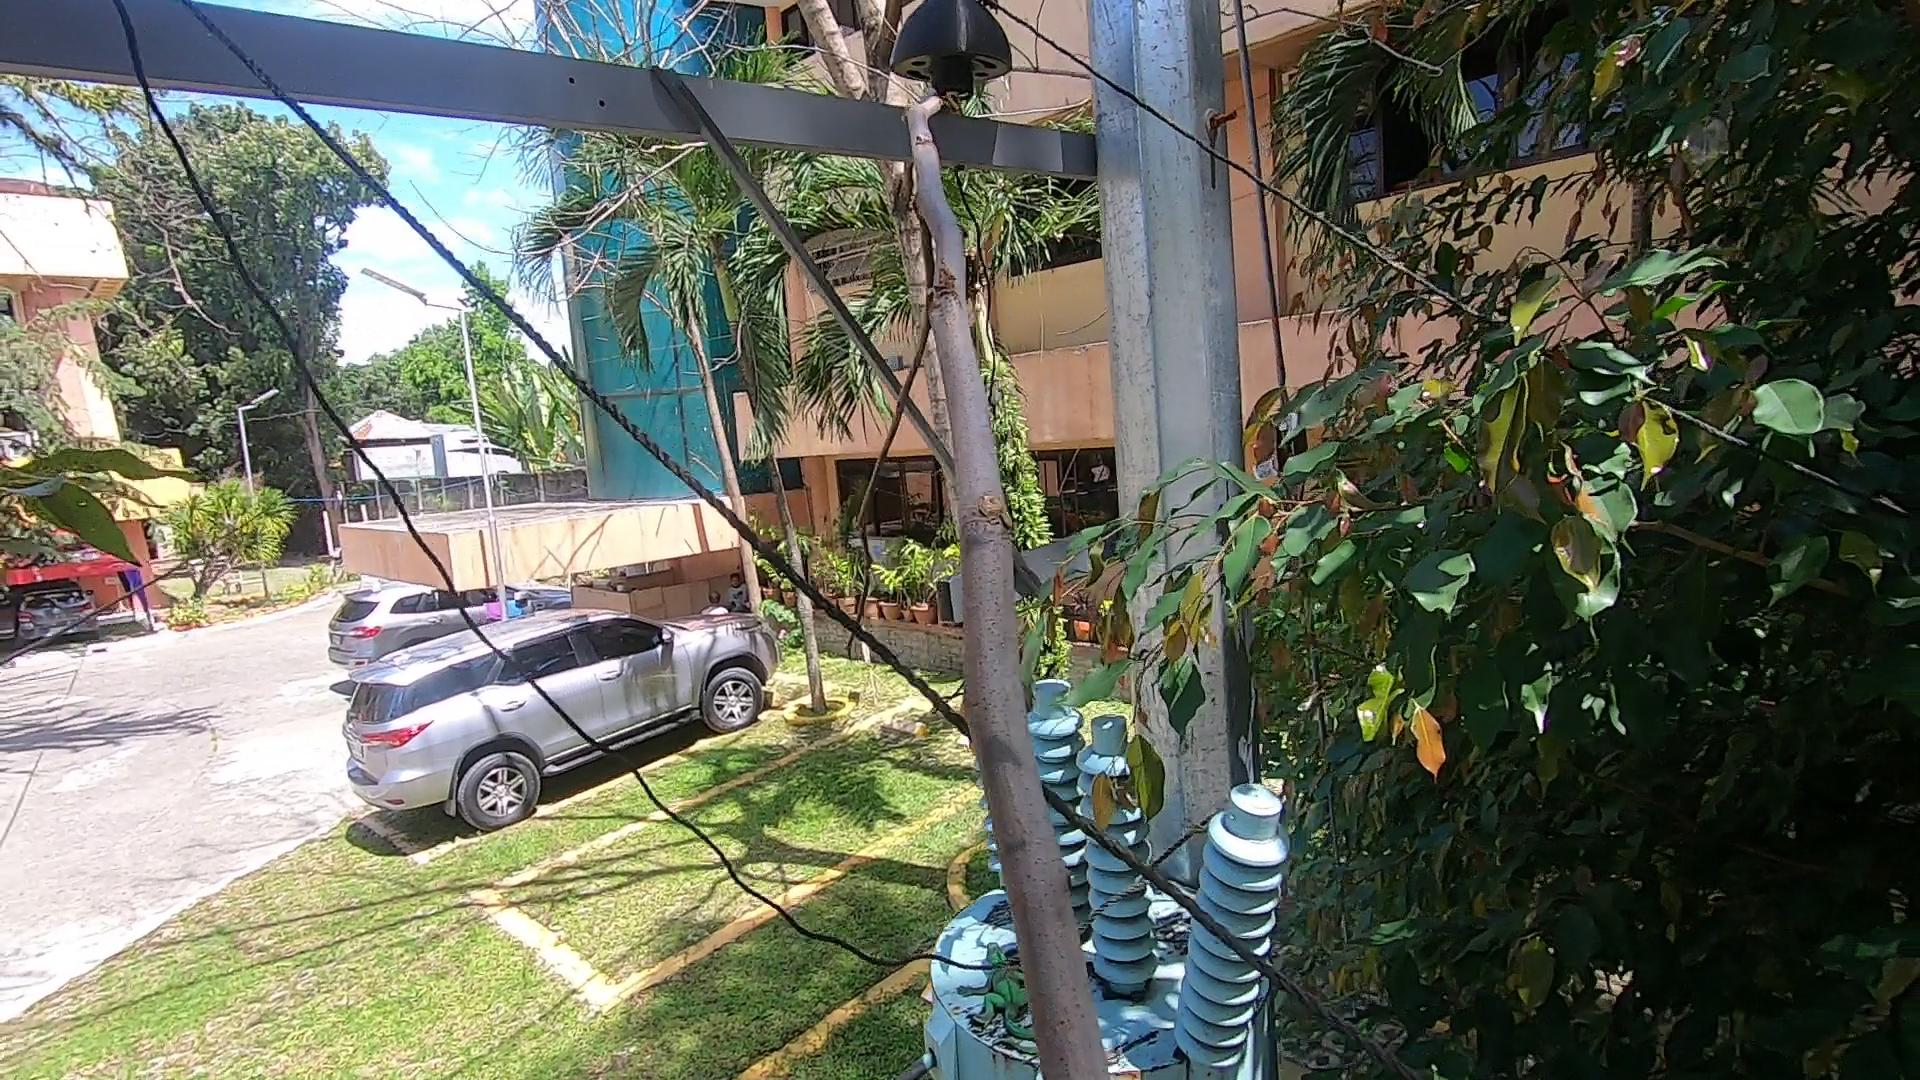branch with leaves: (1026, 505, 1247, 861)
leaf: (1153, 907, 1201, 957)
tree branch: (880, 73, 1145, 1080)
